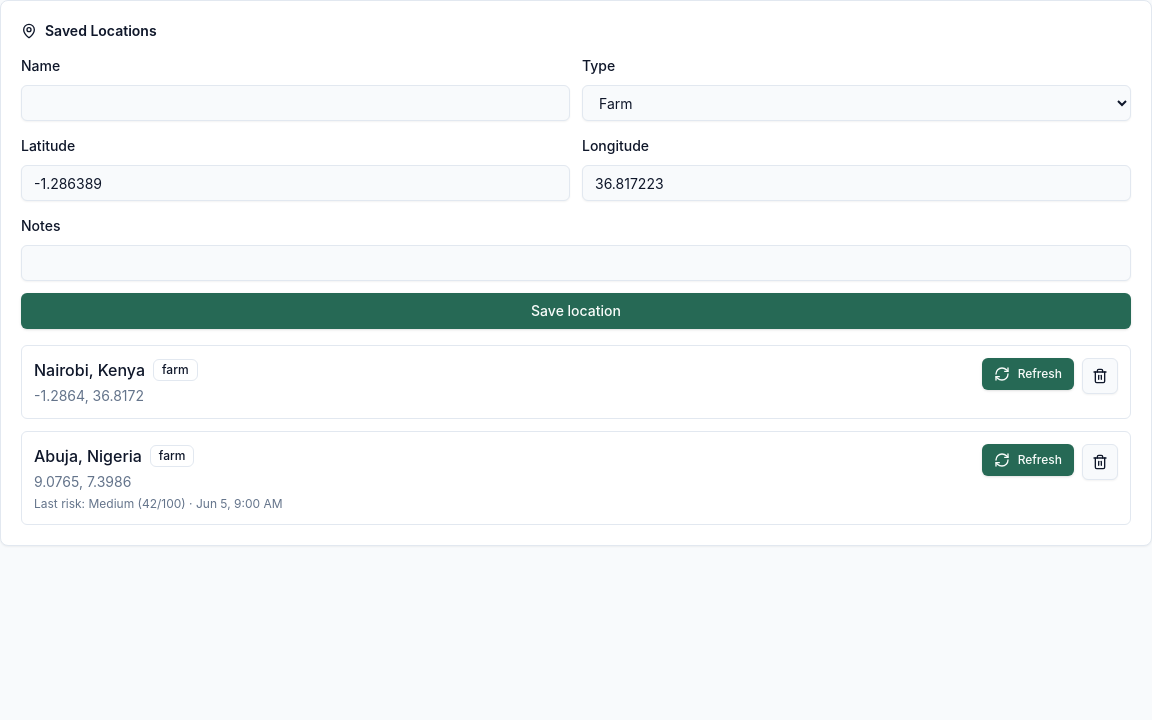
SavedLocationsPanel › uses and deletes saved locations
Check: the text "Nairobi, Kenya" is shown, box [34,358,145,382]
Click the button "Refresh" in the row of "Nairobi, Kenya": (1028, 374) [982,358,1074,390]
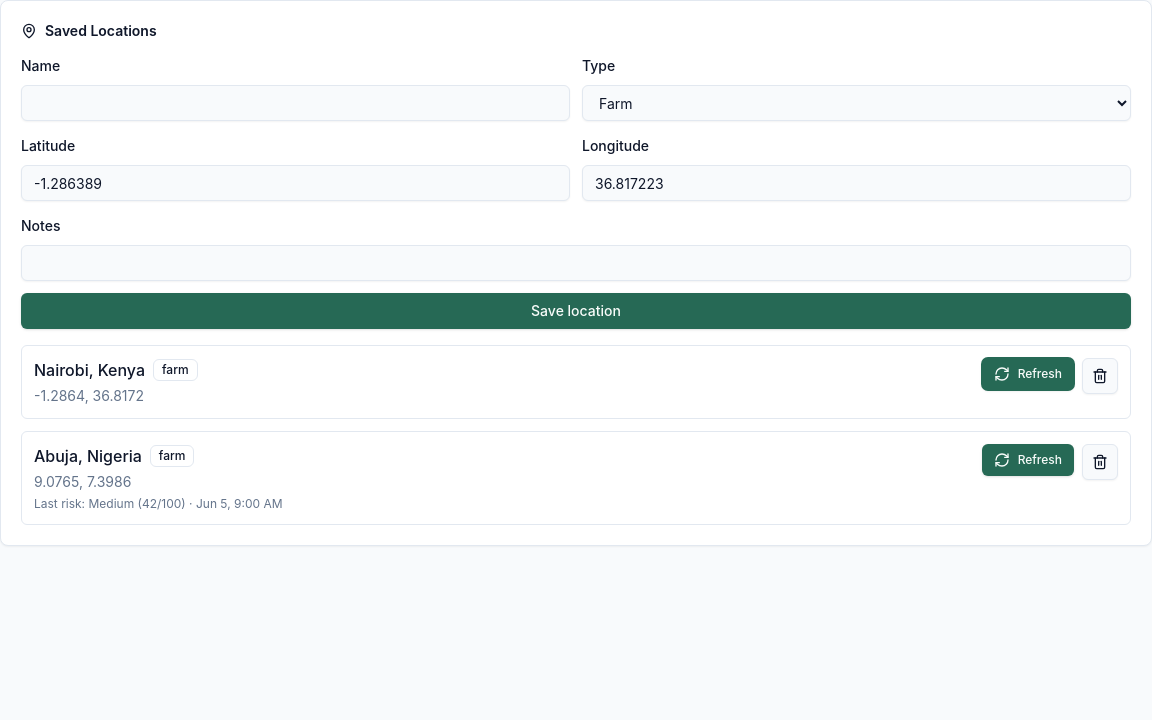
Click the button named "delete nairobi": (1100, 376) [1082,358,1118,394]
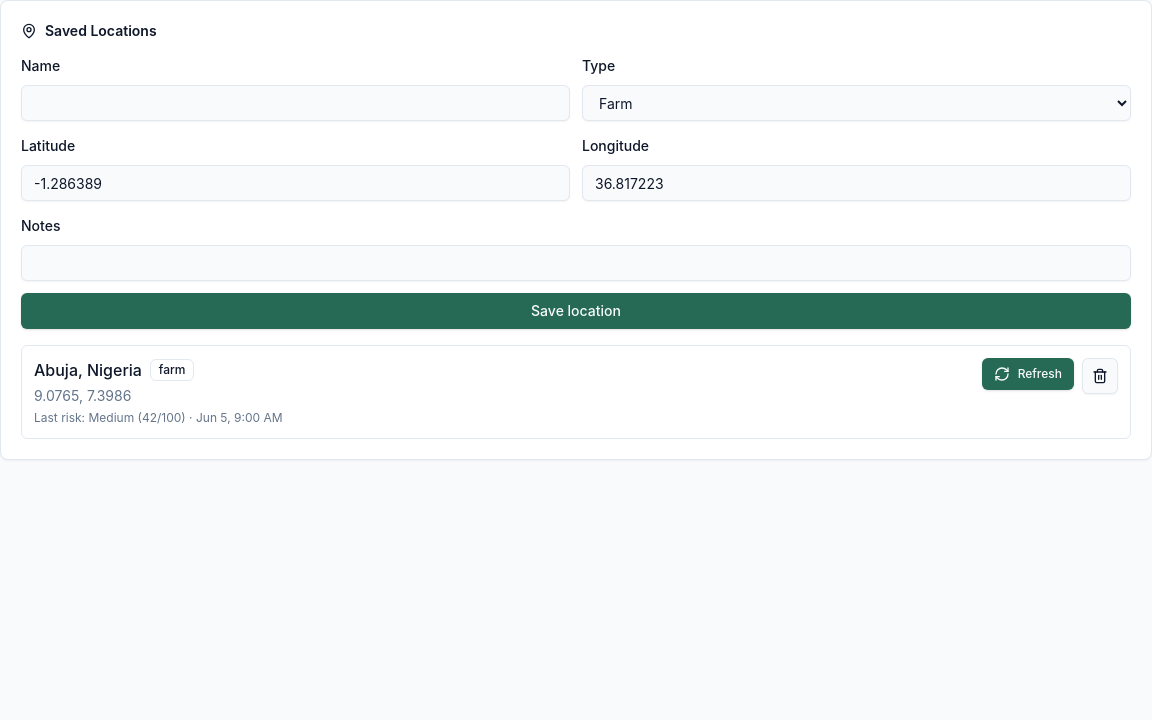
Check: the text "Nairobi, Kenya" is gone
